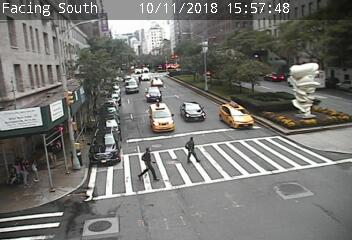car: (219, 104, 253, 128), (150, 103, 173, 132), (181, 102, 204, 122), (147, 86, 161, 102), (125, 79, 138, 93), (151, 78, 163, 88), (139, 74, 150, 81)
